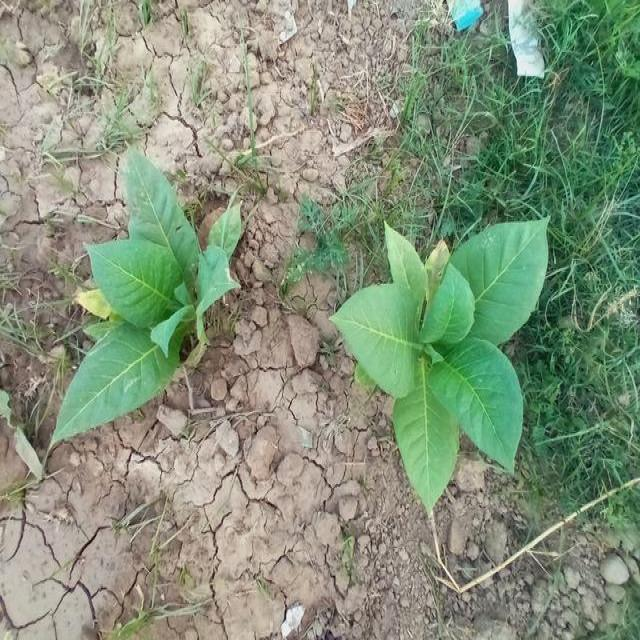crop: (350, 211, 544, 532), (62, 150, 234, 436)
